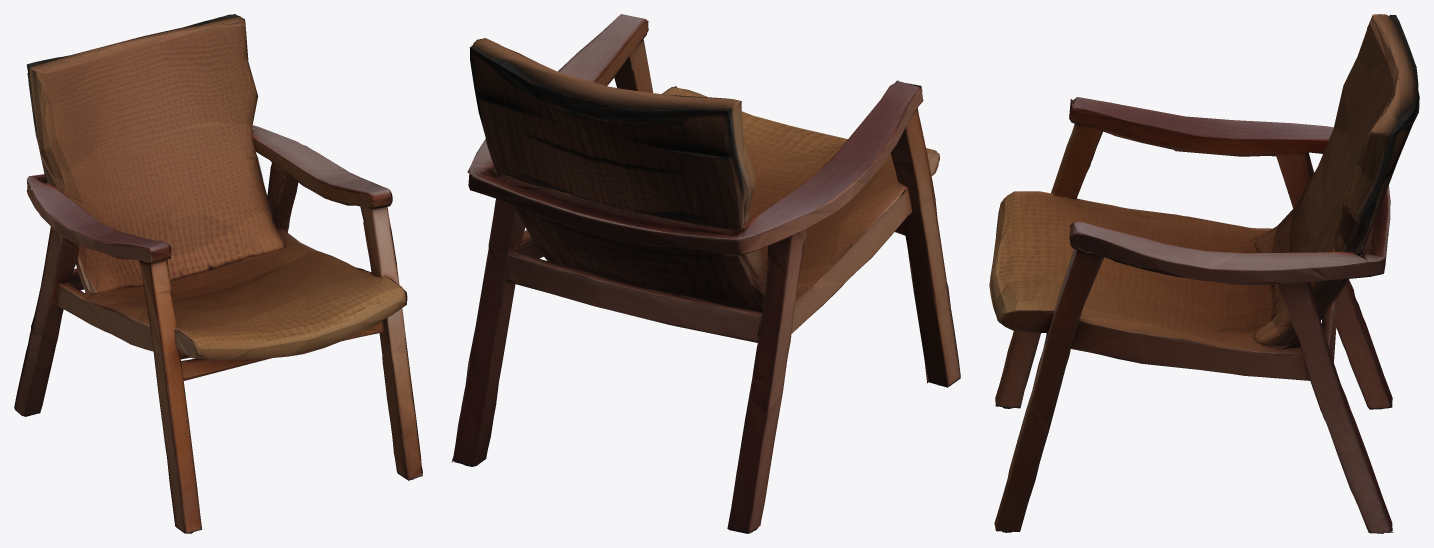
Rendered from chair-trellis.glb.
The picture shows the model from 3 angles, left to right: view 1: azimuth 30°, elevation 25°; view 2: azimuth 150°, elevation 25°; view 3: azimuth 270°, elevation 25°; orthographic projection. The views are drawn at different scales.
Parts seen in each view (by area): view 1: geometry_0; view 2: geometry_0; view 3: geometry_0.
Boxes of the visible parts, box(x1,y1,x2,y2) form: geometry_0: box(14, 14, 422, 533); geometry_0: box(451, 14, 960, 533); geometry_0: box(989, 14, 1419, 533).
Bounding box in the file's own units: 0.8148 × 1 × 0.9842.
Materials: 1 (1 with a texture image).
